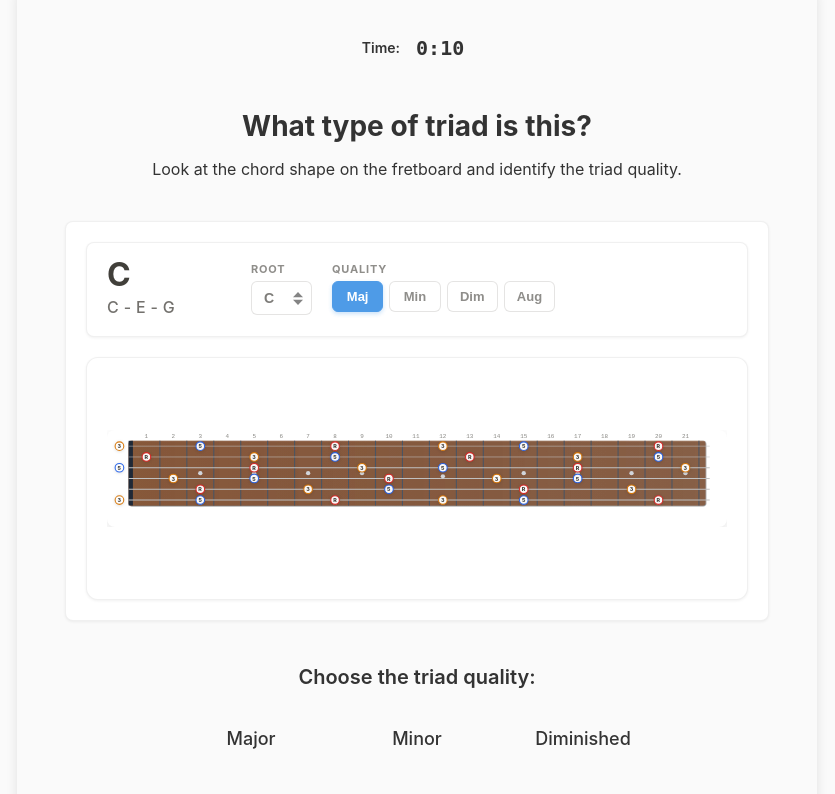
RecognitionMode Component › Timer Functionality › stops timer when answer is submitted
Click the radio button showing "major".
click(307, 737)  # box [226,726,387,749]
(page scrolled)
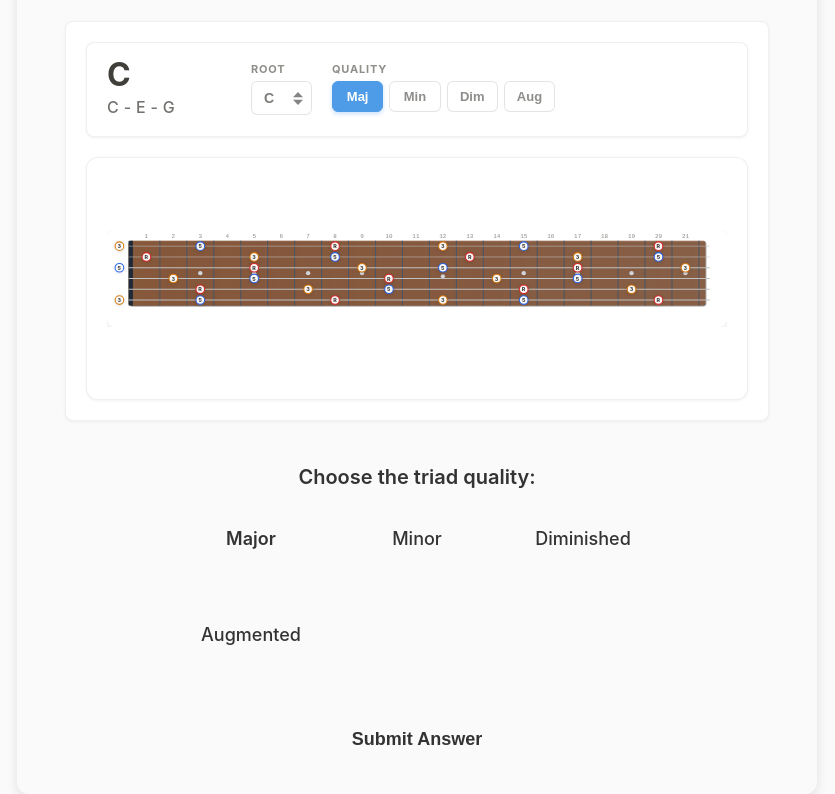
Click the button "Submit Answer".
click(417, 739)  # box [320,717,514,762]
Wait 3000 ms
(page scrolled)
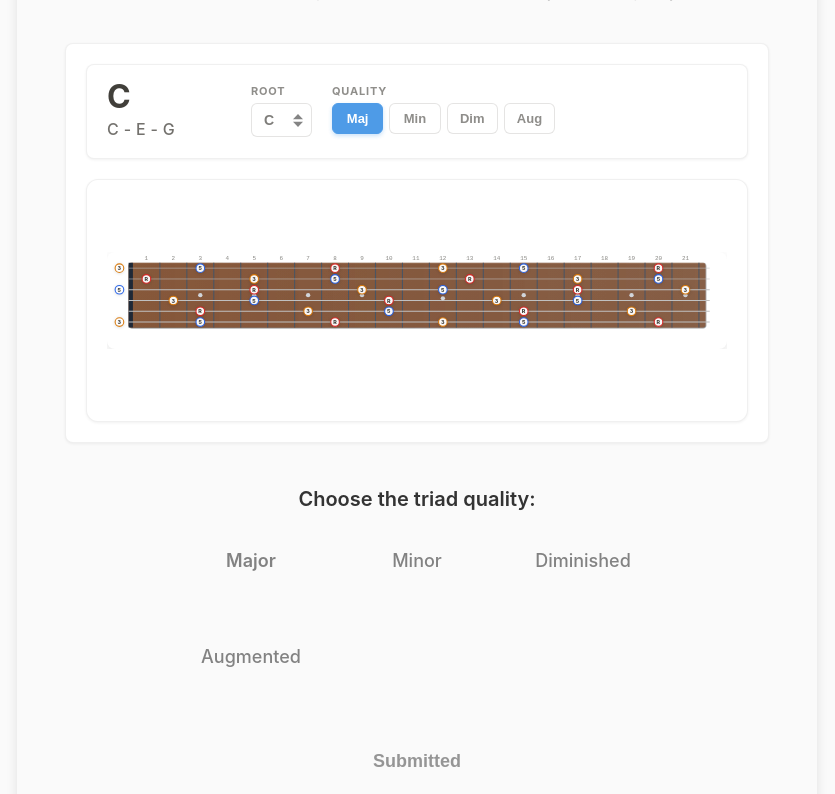
Expected: the button named "submit answer" reads "Submitted", [337,739,497,784]
